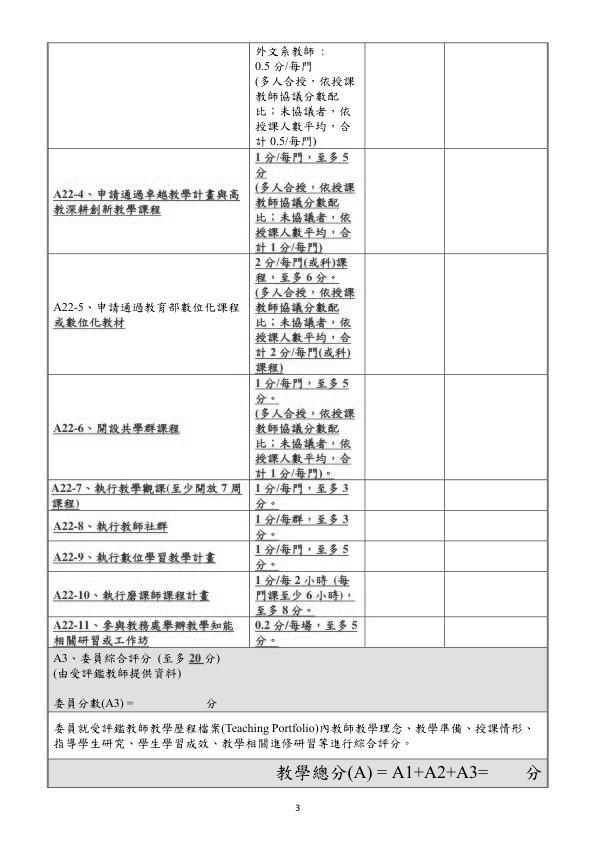table: (44, 40, 561, 793)
